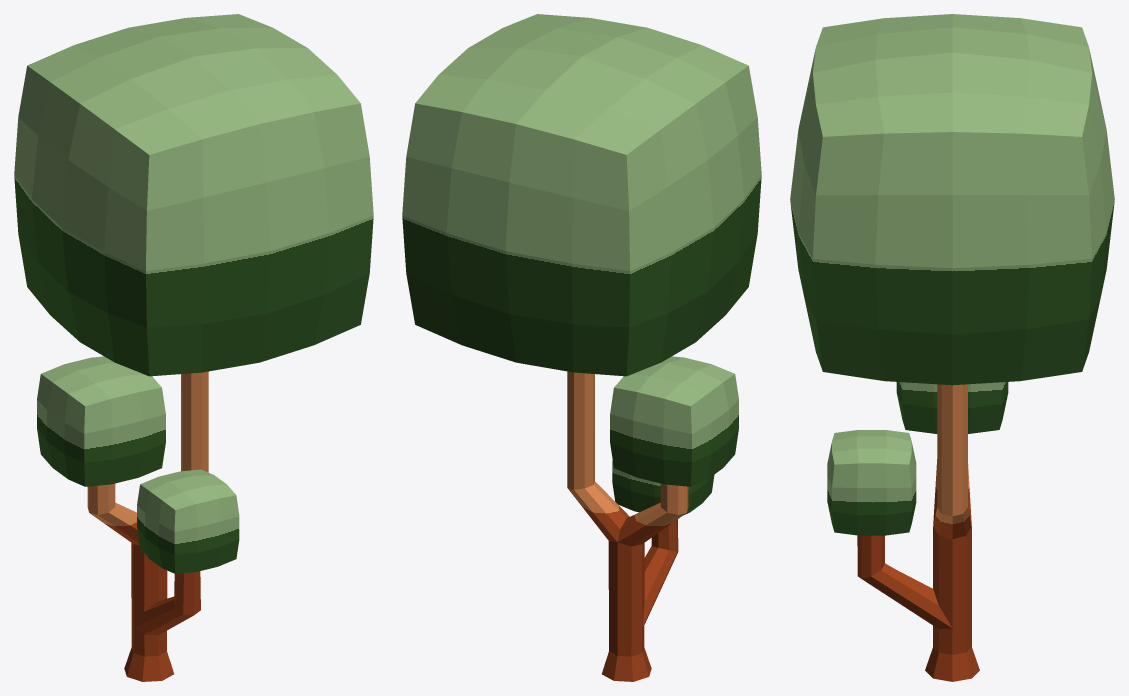
File: SquareTree.glb
The picture shows the model from 3 angles, left to right: view 1: azimuth 30°, elevation 25°; view 2: azimuth 150°, elevation 25°; view 3: azimuth 270°, elevation 25°; orthographic projection. The views are drawn at different scales.
Visible parts, largest first — view 1: Tree; view 2: Tree; view 3: Tree.
Boxes of the visible parts, x1,y1,x2,y2 form: Tree: (14,14,373,681); Tree: (402,14,761,681); Tree: (790,14,1114,681).
Size of the model in its own units: 1.18 by 2.52 by 1.16.
Materials: 1 (1 with a texture image).
